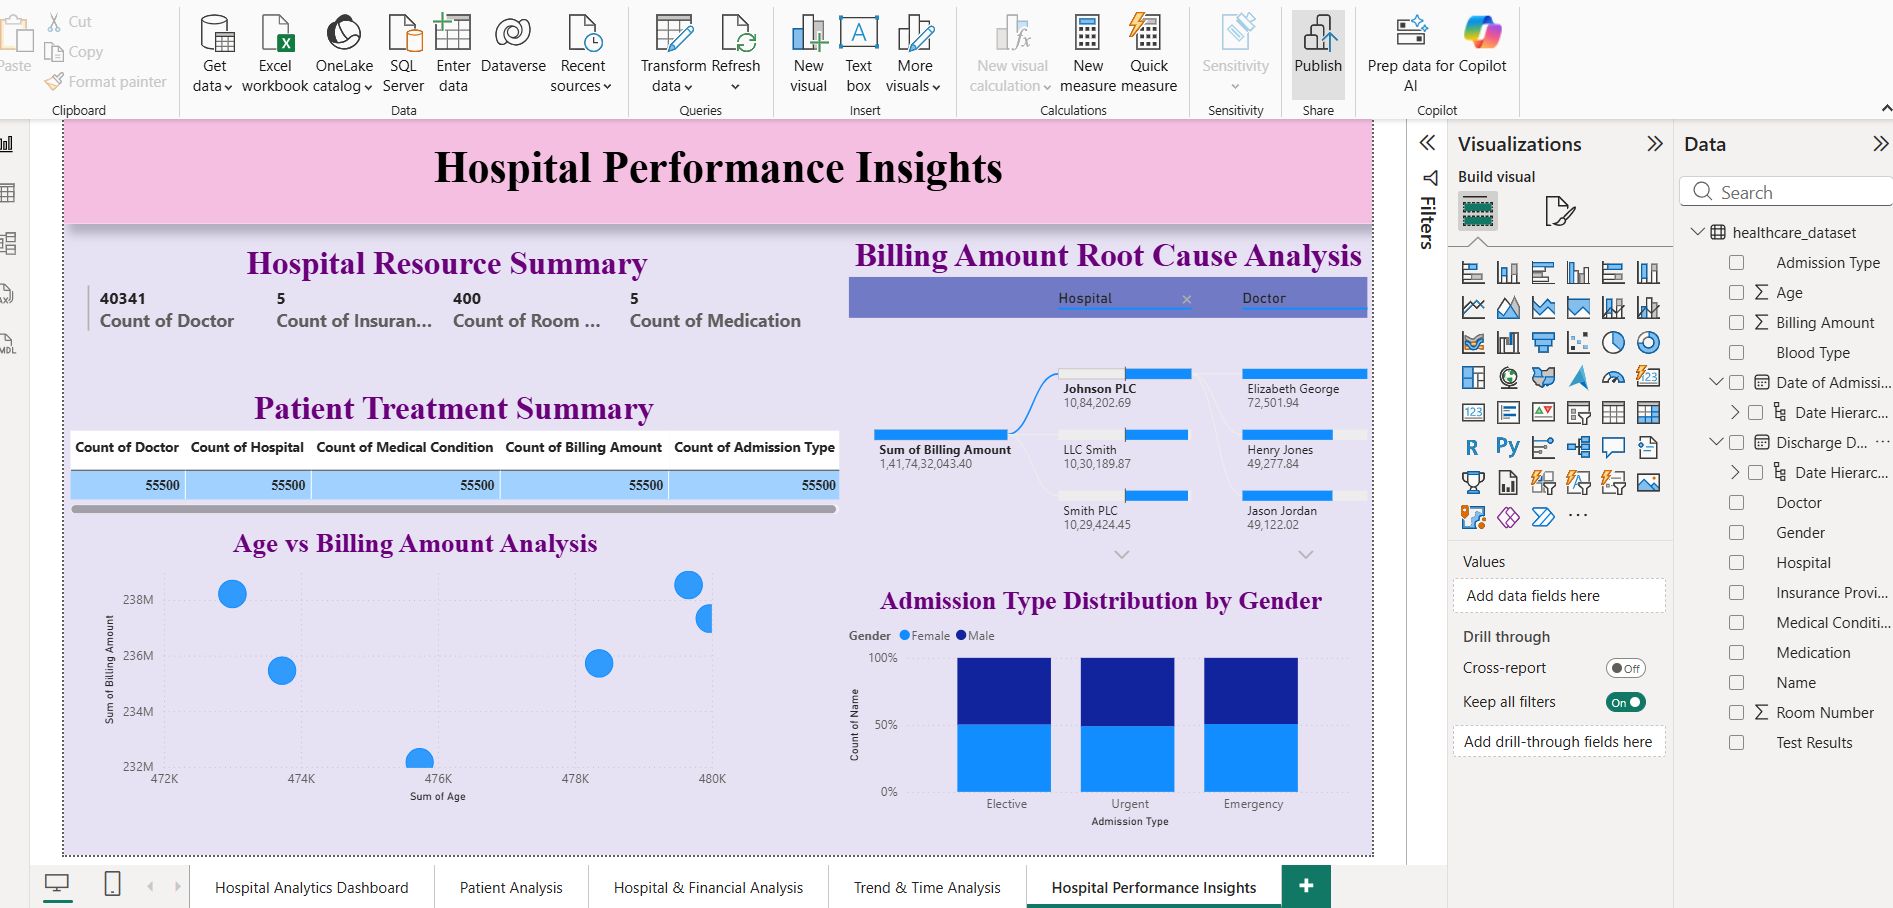

This screenshot's page, from the dashboard's own definition file:
{"tool":"powerbi","page":{"name":"Hospital Performance Insights","canvas":[1280,720],"ordinal":4},"visuals":[{"type":"textbox","box":[0,0,1280.3,102.7],"z":0},{"type":"shape","box":[0,102.7,1280.3,617.5],"z":1000},{"type":"multiRowCard","title":"Hospital Resource Summary","fields":{"Values":["healthcare_dataset.Doctor","healthcare_dataset.Insurance Provider","Count(healthcare_dataset.Room Number)","healthcare_dataset.Medication"]},"box":[18.3,122.3,712.9,141.8],"z":2000},{"type":"scatterChart","title":"Age vs Billing Amount Analysis","fields":{"X":["Sum(healthcare_dataset.Age)"],"Y":["Sum(healthcare_dataset.Billing Amount)"],"Size":["Sum(healthcare_dataset.Billing Amount)"],"Category":["healthcare_dataset.Medical Condition"]},"box":[34.2,399.9,618.8,273.9],"z":3000},{"type":"tableEx","title":"Patient Treatment Summary","fields":{"Values":["healthcare_dataset.Doctor","healthcare_dataset.Hospital","healthcare_dataset.Medical Condition","CountNonNull(healthcare_dataset.Billing Amount)","healthcare_dataset.Admission Type"]},"box":[0,264.1,763,127.2],"z":4000},{"type":"decompositionTreeVisual","title":"Billing Amount Root Cause Analysis","fields":{"Analyze":["Sum(healthcare_dataset.Billing Amount)"],"ExplainBy":["healthcare_dataset.Hospital","healthcare_dataset.Doctor","healthcare_dataset.Insurance Provider","healthcare_dataset.Admission Type"]},"box":[763,113.7,517.3,331.4],"z":4001},{"type":"hundredPercentStackedColumnChart","title":"Admission Type Distribution by Gender","fields":{"Category":["healthcare_dataset.Admission Type"],"Series":["healthcare_dataset.Gender"],"Y":["CountNonNull(healthcare_dataset.Name)"]},"box":[763,457.3,502.6,240.9],"z":4002}]}

Visuals, with their boxes on the page's 1280x720 design canvas (x1, y1, x2, y2). These are canvas units, not pixel positions in the 1893x908 screenshot, which may show the page scaled, cropped or inside an application window:
textbox: region(0, 0, 1280, 103)
shape: region(0, 103, 1280, 720)
"Hospital Resource Summary" multiRowCard: region(18, 122, 731, 264)
"Age vs Billing Amount Analysis" scatterChart: region(34, 400, 653, 674)
"Patient Treatment Summary" tableEx: region(0, 264, 763, 391)
"Billing Amount Root Cause Analysis" decompositionTreeVisual: region(763, 114, 1280, 445)
"Admission Type Distribution by Gender" hundredPercentStackedColumnChart: region(763, 457, 1266, 698)
